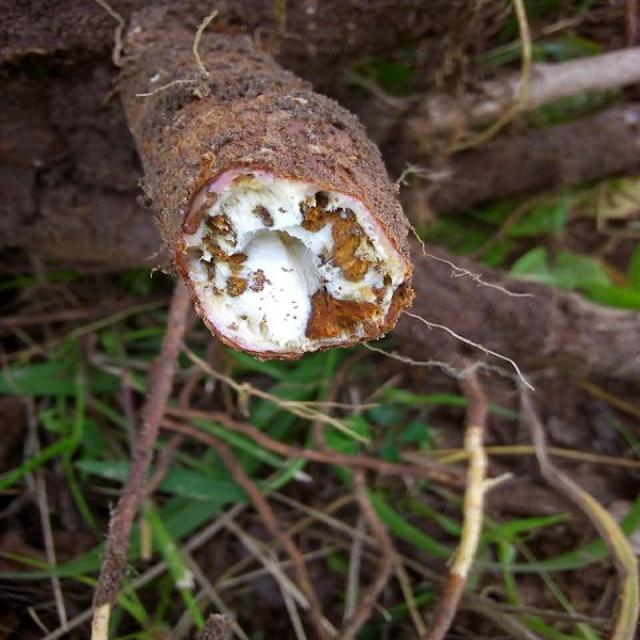cassava leaf: (114, 8, 416, 362)
